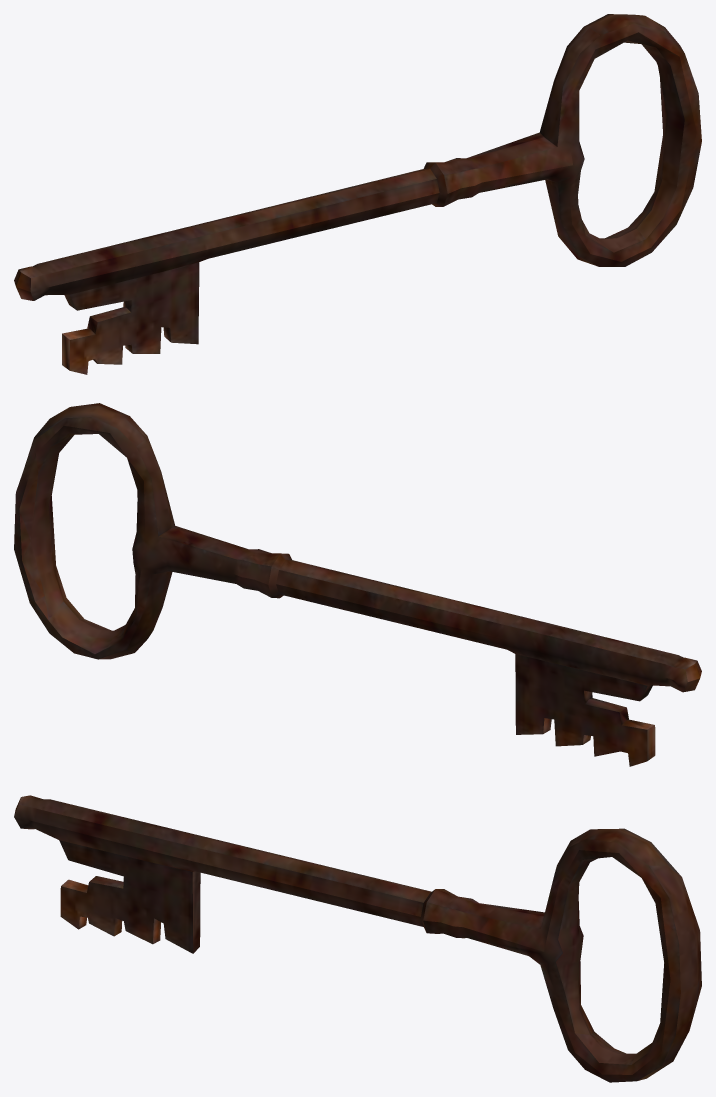
File: old_key.glb
The picture shows the model from 3 angles, top to bottom: view 1: azimuth 30°, elevation 25°; view 2: azimuth 150°, elevation 25°; view 3: azimuth 330°, elevation 25°; orthographic projection.
Visible parts, largest first — view 1: old_key; view 2: old_key; view 3: old_key.
Part boxes in pixels (x1,y1,x2,y2): old_key: (14,14,701,374); old_key: (14,403,701,766); old_key: (14,795,701,1082).
Size of what is drawn, in the model's own units: 0.08 by 0.0281 by 0.00615.
1 material, 1 textured.
